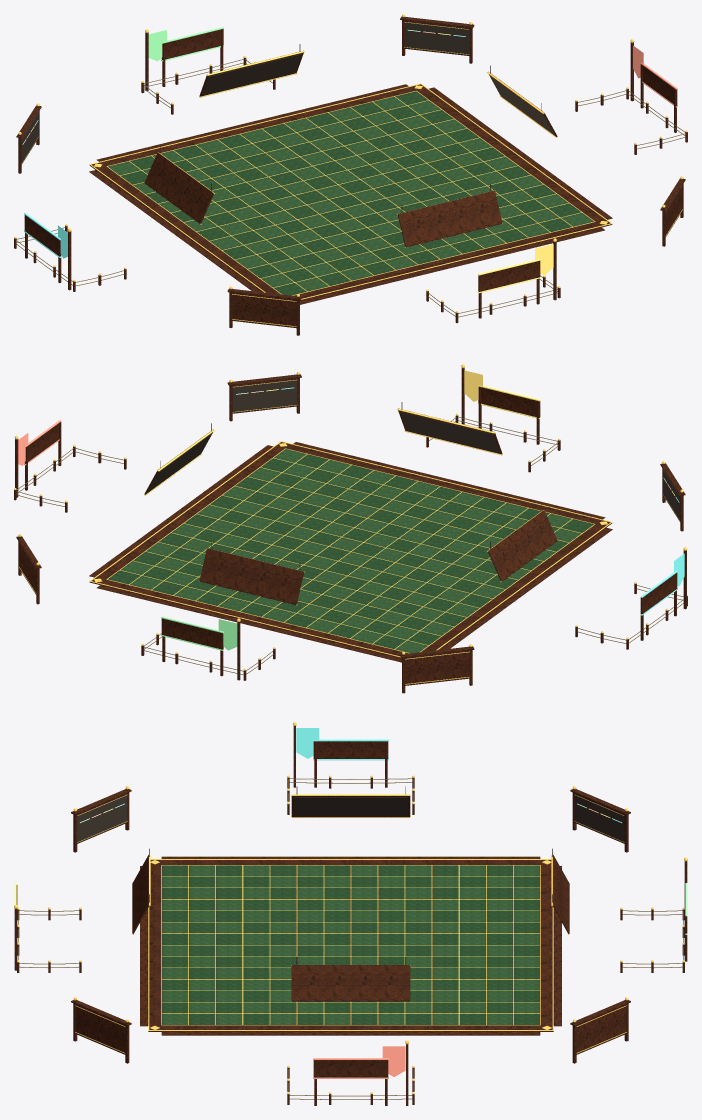
The model's file is sp_royale.glb.
3 views of the same model, one above another, from view 1: azimuth 30°, elevation 25°; view 2: azimuth 150°, elevation 25°; view 3: azimuth 270°, elevation 25° (orthographic). The views are drawn at different scales.
Visible parts, largest first — view 1: spire; view 2: spire; view 3: spire.
Part boxes in pixels (bbox=[...]): spire: bbox=[14, 14, 687, 335]; spire: bbox=[14, 364, 687, 693]; spire: bbox=[14, 722, 687, 1105].
Bounding box in the file's own units: 72.8 × 7.95 × 64.8.
Materials: 15 (6 with a texture image).
